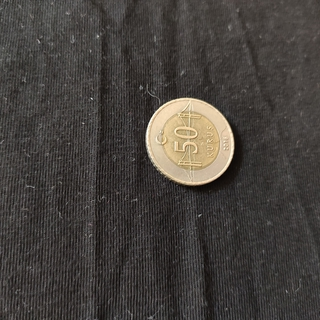50KURUS: (143, 96, 235, 187)
